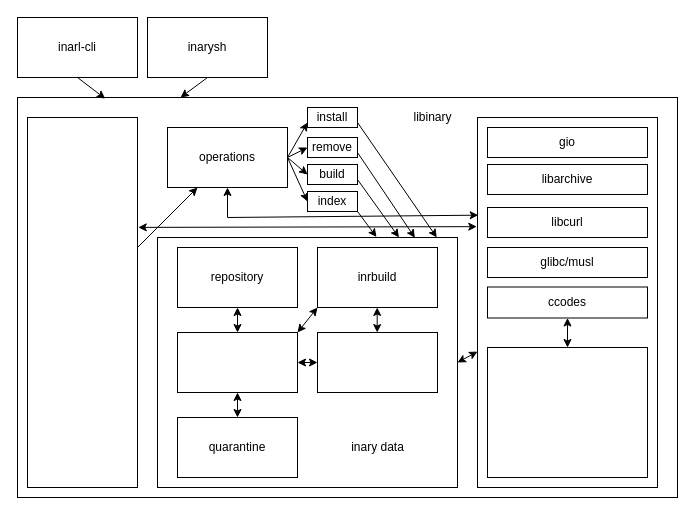
Image size: 695x515. Some labels were removed from this diagram. The shapes that lost their labels are listed below. From the top down, each one's centre as x and y in pixels, then its label:
At point (82, 302): "inary operation manager".
At point (237, 362): "package".
At point (377, 362): "dependency".
At point (567, 412): "C source codes".
